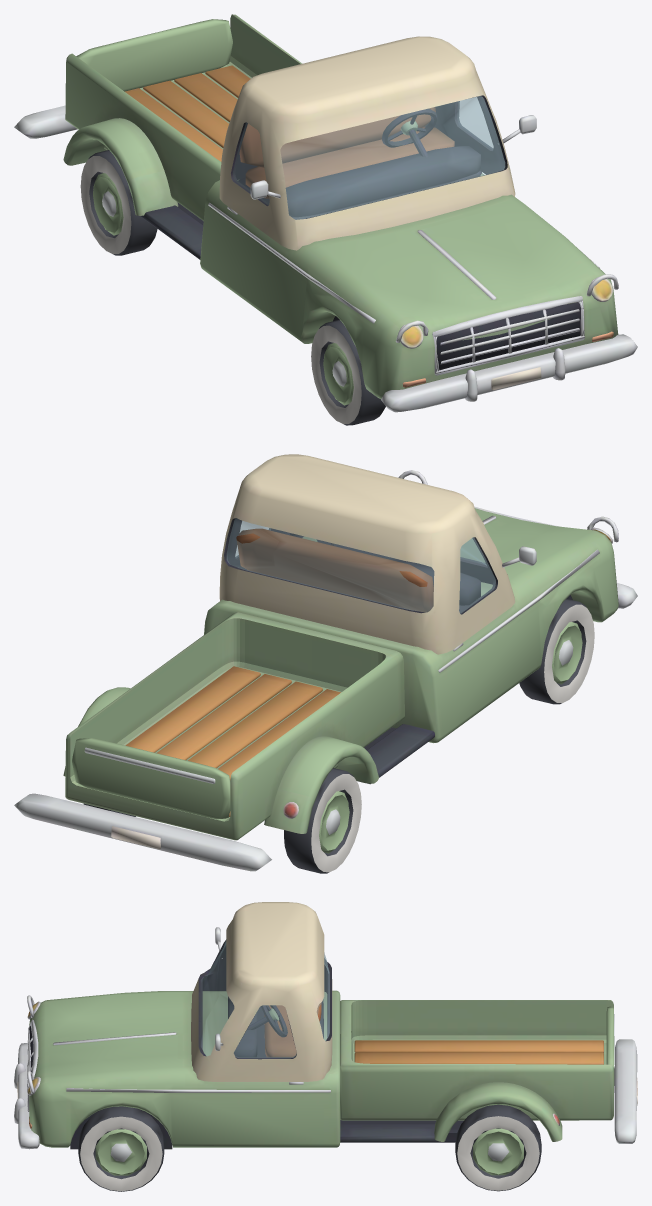
The model's file is n_1950pickup.glb.
The picture shows the model from 3 angles, top to bottom: view 1: azimuth 30°, elevation 25°; view 2: azimuth 150°, elevation 25°; view 3: azimuth 270°, elevation 25°; orthographic projection. The views are drawn at different scales.
Parts seen in each view (by area): view 1: 1950s-pickup-truck_body, 1950s-pickup-truck_windows, 1950s-pickup-truck_tailgate, 1950s-pickup-truck_wheel_rr, 1950s-pickup-truck_wheel_fr; view 2: 1950s-pickup-truck_body, 1950s-pickup-truck_windows, 1950s-pickup-truck_tailgate, 1950s-pickup-truck_wheel_rr, 1950s-pickup-truck_wheel_fr; view 3: 1950s-pickup-truck_body, 1950s-pickup-truck_wheel_rl, 1950s-pickup-truck_wheel_fl, 1950s-pickup-truck_windows, 1950s-pickup-truck_tailgate.
Boxes of the visible parts, left/top/right/bottom form: 1950s-pickup-truck_body: left=14, top=14, right=637, bottom=412; 1950s-pickup-truck_windows: left=233, top=96, right=504, bottom=219; 1950s-pickup-truck_tailgate: left=76, top=19, right=232, bottom=91; 1950s-pickup-truck_wheel_rr: left=80, top=150, right=157, bottom=255; 1950s-pickup-truck_wheel_fr: left=311, top=319, right=385, bottom=425; 1950s-pickup-truck_body: left=14, top=454, right=637, bottom=871; 1950s-pickup-truck_windows: left=227, top=518, right=495, bottom=613; 1950s-pickup-truck_tailgate: left=72, top=738, right=230, bottom=819; 1950s-pickup-truck_wheel_rr: left=284, top=768, right=361, bottom=873; 1950s-pickup-truck_wheel_fr: left=519, top=598, right=594, bottom=704; 1950s-pickup-truck_body: left=14, top=902, right=637, bottom=1149; 1950s-pickup-truck_wheel_rl: left=455, top=1104, right=541, bottom=1191; 1950s-pickup-truck_wheel_fl: left=78, top=1106, right=164, bottom=1191; 1950s-pickup-truck_windows: left=200, top=940, right=329, bottom=1057; 1950s-pickup-truck_tailgate: left=606, top=1006, right=614, bottom=1085.
Size of the model in its own units: 2.26 by 1.94 by 5.29.
3 materials, 1 textured.
